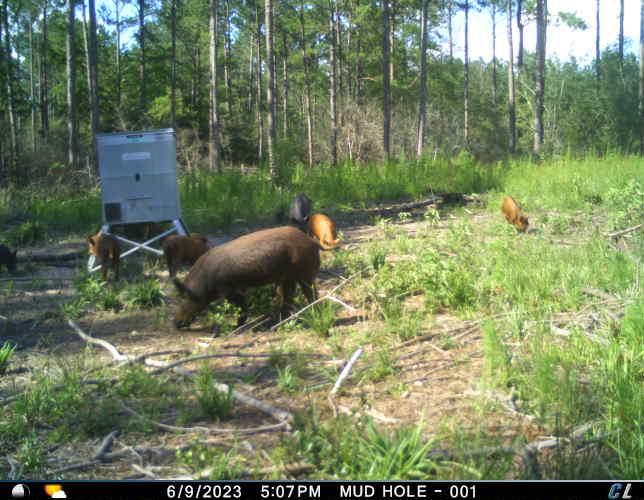Hog: (163, 222, 342, 331), (155, 232, 210, 274), (88, 230, 124, 276), (310, 210, 339, 251), (499, 194, 529, 231), (287, 192, 314, 222), (0, 240, 20, 280)
